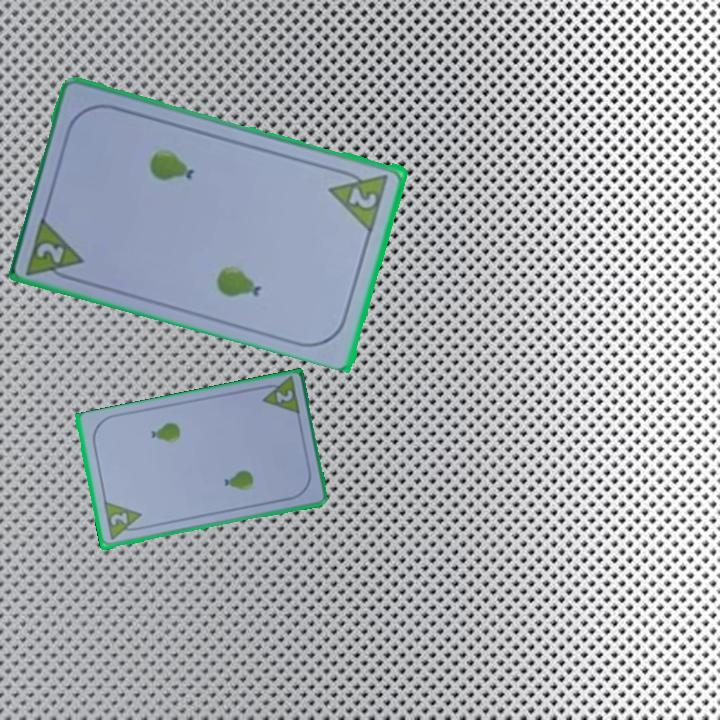2p: (22, 211, 89, 286), (326, 164, 392, 233), (255, 375, 303, 419), (100, 499, 146, 544)
